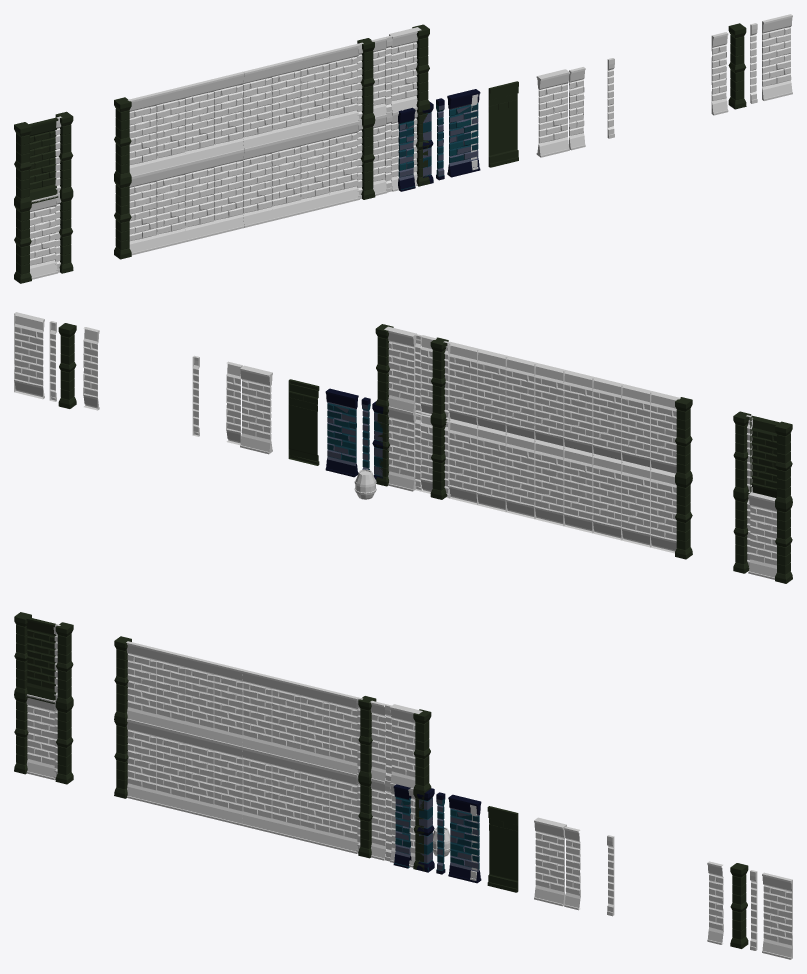
Rendered from Tembok 100fbx.fbx.
3 views of the same model, one above another, from view 1: azimuth 30°, elevation 25°; view 2: azimuth 150°, elevation 25°; view 3: azimuth 330°, elevation 25° (orthographic).
Visible parts, largest first — view 1: Cube.009, Plane.002, Plane.001, Tembok 100 Cm, Plane.024, Plane.029, Tembok 100 Cm.001, Plane.018, Plane.025, Plane.013, Plane.026, Plane.027 (+33 smaller); view 2: Cube.009, Tembok 100 Cm, Plane.002, Plane.001, Tembok 100 Cm.001, Plane.016, Plane.017, Plane.015, Plane.027, Plane.028, Plane.018, Plane.026 (+32 smaller); view 3: Cube.009, Plane.002, Plane.001, Tembok 100 Cm.001, Tembok 100 Cm, Plane.027, Plane.026, Plane.028, Plane.029, Plane.030, Plane.016, Plane.017 (+28 smaller).
Part boxes in pixels (x1,y1,x2,y2): Cube.009: (14, 117, 58, 207); Plane.002: (536, 69, 569, 157); Plane.001: (488, 81, 518, 167); Tembok 100 Cm: (447, 89, 480, 177); Plane.024: (300, 51, 331, 137); Plane.029: (156, 86, 186, 172); Tembok 100 Cm.001: (762, 14, 792, 100); Plane.018: (156, 163, 186, 248); Plane.025: (271, 58, 302, 144); Plane.013: (300, 128, 331, 213); Plane.026: (242, 65, 273, 151); Plane.027: (214, 72, 244, 158); Cube.009: (750, 415, 792, 507); Tembok 100 Cm: (325, 388, 358, 477); Plane.002: (240, 365, 272, 454); Plane.001: (288, 379, 319, 465); Tembok 100 Cm.001: (14, 312, 44, 399); Plane.016: (563, 446, 594, 533); Plane.017: (592, 453, 623, 540); Plane.015: (534, 439, 563, 526); Plane.027: (563, 370, 593, 456); Plane.028: (592, 377, 622, 464); Plane.018: (621, 461, 652, 547); Plane.026: (534, 363, 564, 449); Cube.009: (14, 612, 56, 704); Plane.002: (534, 817, 566, 906); Plane.001: (487, 806, 518, 892); Tembok 100 Cm.001: (762, 872, 792, 959); Tembok 100 Cm: (448, 794, 481, 883); Plane.027: (212, 662, 243, 749); Plane.026: (241, 669, 272, 756); Plane.028: (183, 655, 214, 742); Plane.029: (154, 648, 185, 735); Plane.030: (126, 641, 156, 728); Plane.016: (212, 739, 243, 825); Plane.017: (183, 732, 214, 818).
Bounding box in the file's own units: 5360 × 1024 × 345.
